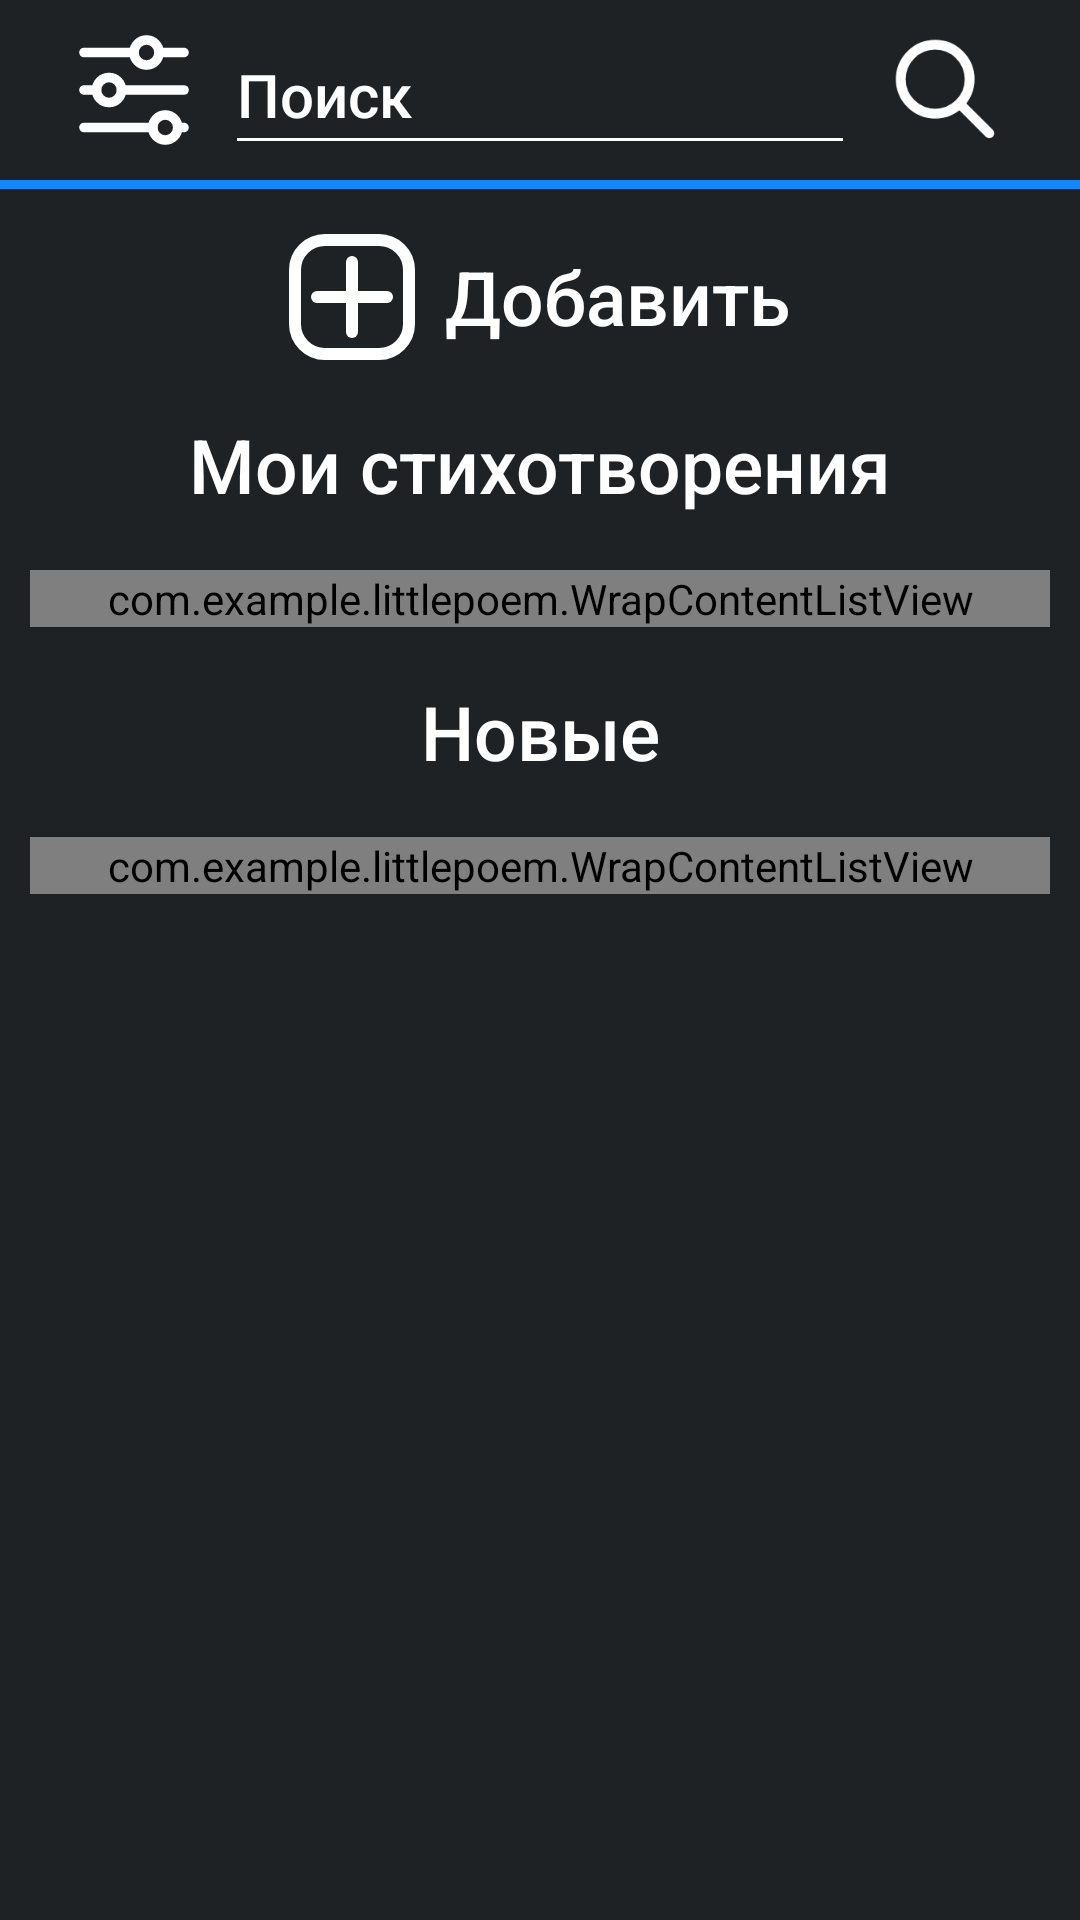

Screen size 1080 x 1920. Icon name, then its center in pixels as point (x, y):
add: point (352, 297)
filter: point (134, 90)
